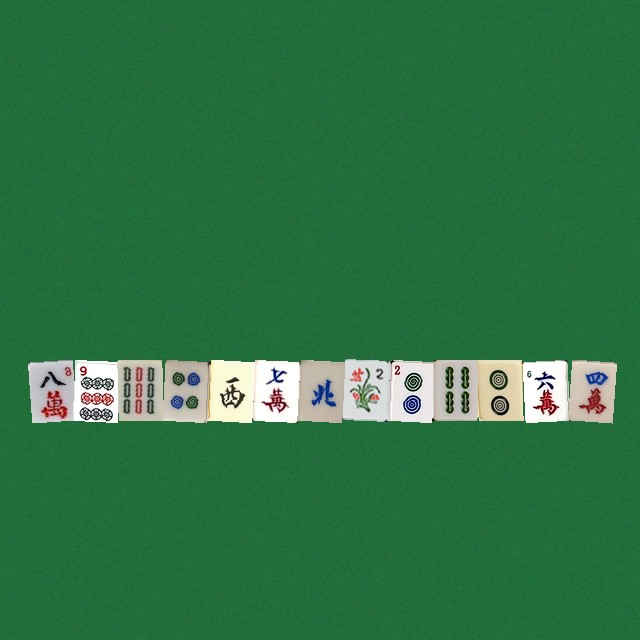tile: (27, 359, 72, 420), (72, 359, 117, 420), (117, 359, 162, 420), (162, 359, 207, 420), (207, 359, 252, 420), (252, 359, 297, 420), (297, 359, 342, 420), (342, 359, 387, 420), (387, 359, 432, 420), (432, 359, 477, 420), (477, 359, 522, 420), (522, 359, 567, 420), (567, 359, 612, 420)
